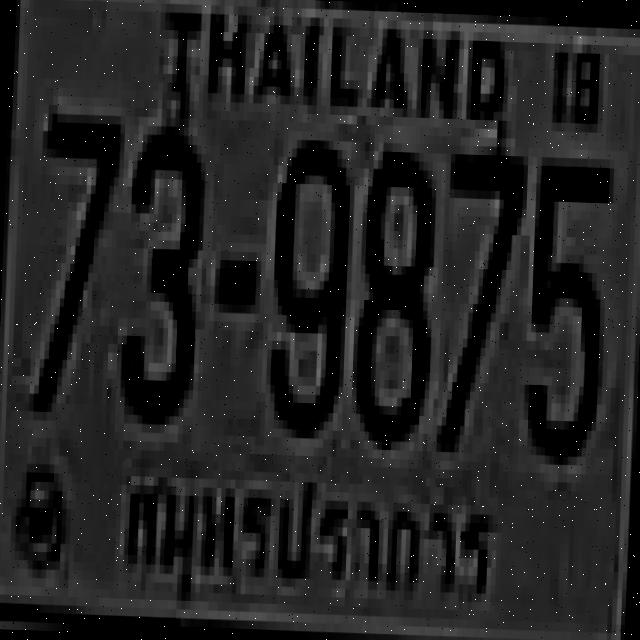3: (115, 116, 202, 417)
5: (522, 147, 610, 457)
7: (30, 104, 119, 414), (436, 140, 524, 450)
8: (350, 142, 433, 442)
9: (266, 130, 350, 430)
SamutPrakan: (116, 459, 497, 634)
